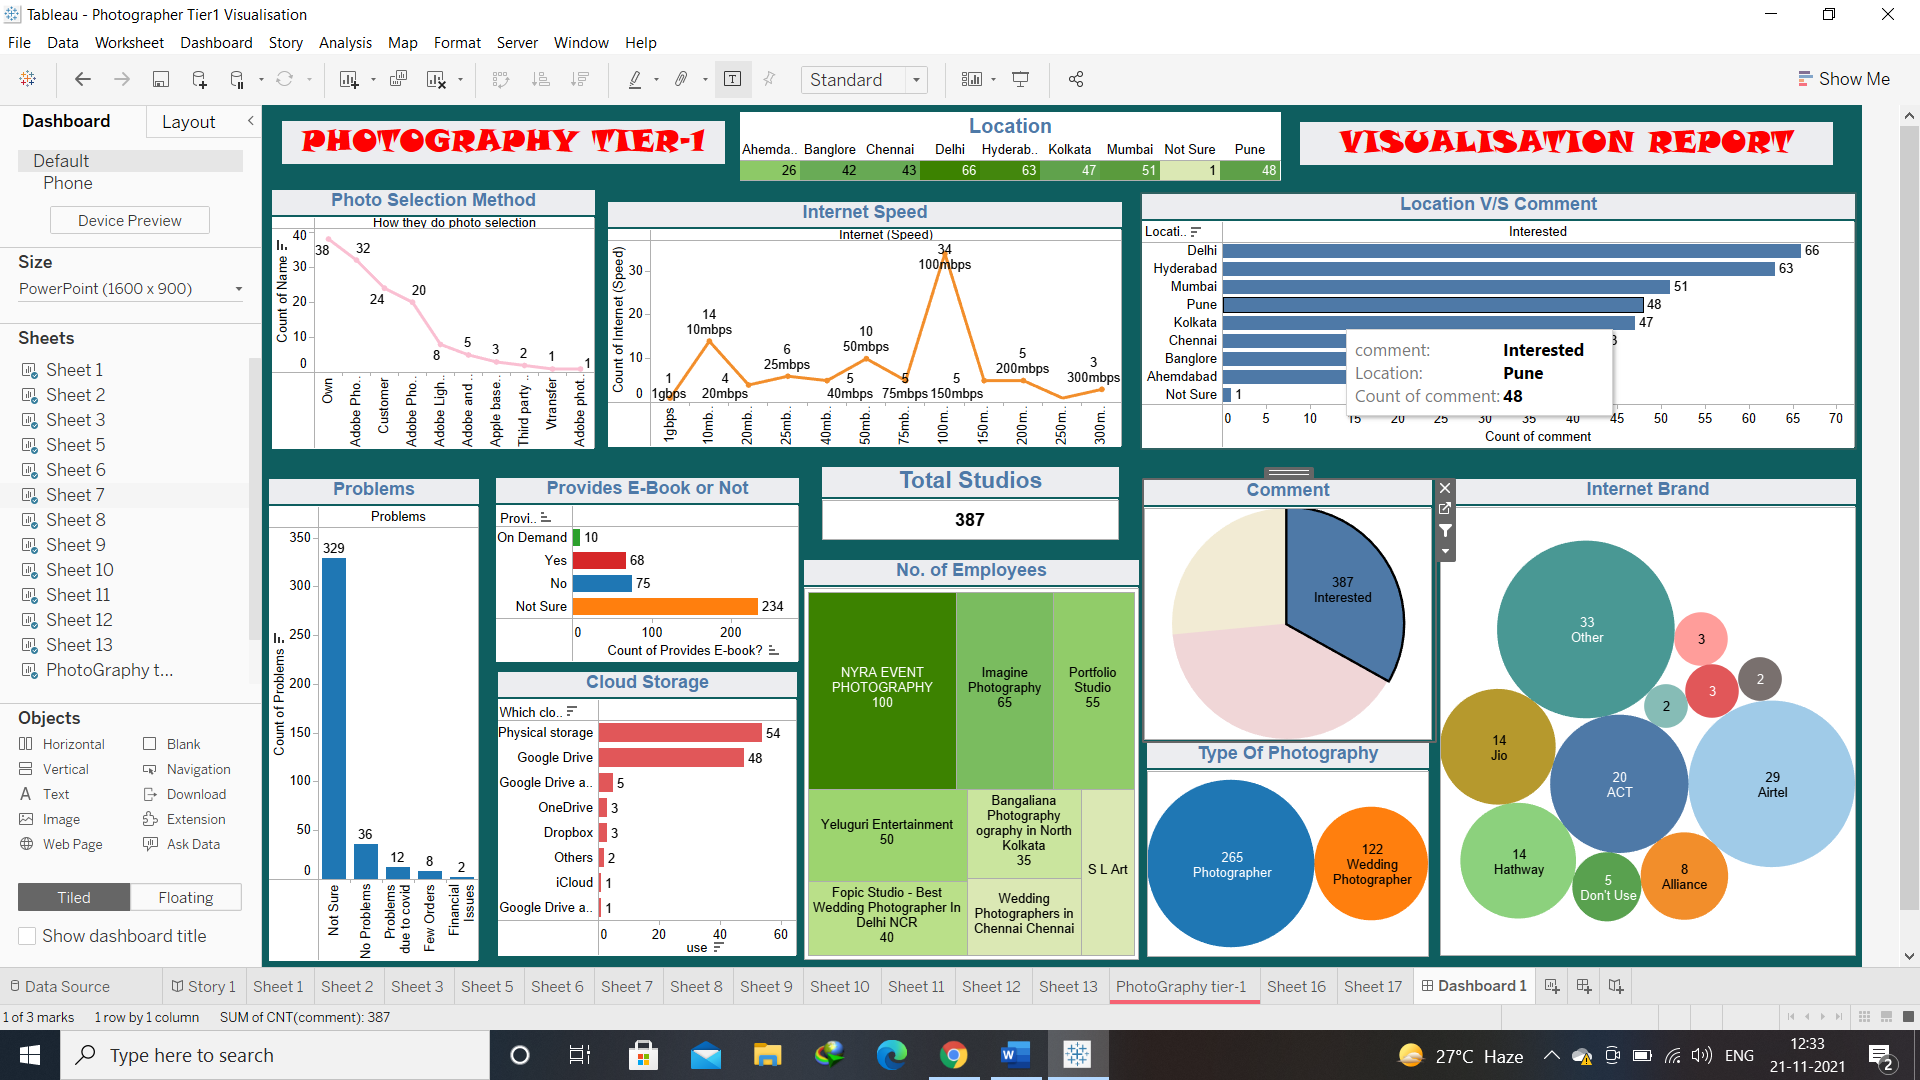

The dashboard page shown, as its layout file describes it:
{"tool":"tableau","page":{"name":"Dashboard 1","canvas":[1600,900],"ordinal":0},"visuals":[{"type":"worksheet","title":"Sheet 5","mark":"Square","cols":["Location"],"box":[478,7,545,72]},{"type":"worksheet","title":"PhotoGraphy tier-1","mark":"Automatic","box":[20,16,443,44]},{"type":"worksheet","title":"Sheet 16","mark":"Automatic","box":[1038,17,533,43]},{"type":"worksheet","title":"Sheet 13","mark":"Line","rows":["Name"],"cols":["How they do photo selection"],"box":[10,85,325,260]},{"type":"worksheet","title":"Sheet 2","mark":"Automatic","rows":["Location"],"cols":["comment","comment"],"box":[880,89,713,254]},{"type":"worksheet","title":"Sheet 12","mark":"Line","rows":["Internet (Speed)"],"cols":["Internet (Speed)"],"box":[346,97,514,245]},{"type":"worksheet","title":"Sheet 1","mark":"Automatic","box":[560,362,303,75]},{"type":"worksheet","title":"Sheet 8","mark":"Automatic","rows":["Provides E-book?"],"cols":["Provides E-book?"],"box":[234,373,303,187]},{"type":"worksheet","title":"Sheet 6","mark":"Automatic","rows":["Problems"],"cols":["Problems"],"box":[7,374,218,482]},{"type":"worksheet","title":"Sheet 3","mark":"Circle","box":[1178,374,420,477]},{"type":"worksheet","title":"Sheet 7","mark":"Pie","box":[882,375,291,261]},{"type":"worksheet","title":"Sheet 11","mark":"Automatic","box":[542,455,336,401]},{"type":"worksheet","title":"Sheet 9","mark":"Automatic","rows":["Which cloud storage they use"],"cols":["Which cloud storage they use"],"box":[236,567,302,288]},{"type":"worksheet","title":"Sheet 10","mark":"Circle","box":[885,638,284,216]}]}

Visuals, with their boxes on the page's 1600x900 design canvas (x1, y1, x2, y2). These are canvas units, not pixel positions in the 1920x1080 screenshot, which may show the page scaled, cropped or inside an application window:
"Sheet 5" worksheet (Square marks): [x1=478, y1=7, x2=1023, y2=79]
"PhotoGraphy tier-1" worksheet: [x1=20, y1=16, x2=463, y2=60]
"Sheet 16" worksheet: [x1=1038, y1=17, x2=1571, y2=60]
"Sheet 13" worksheet (Line marks): [x1=10, y1=85, x2=335, y2=345]
"Sheet 2" worksheet: [x1=880, y1=89, x2=1593, y2=343]
"Sheet 12" worksheet (Line marks): [x1=346, y1=97, x2=860, y2=342]
"Sheet 1" worksheet: [x1=560, y1=362, x2=863, y2=437]
"Sheet 8" worksheet: [x1=234, y1=373, x2=537, y2=560]
"Sheet 6" worksheet: [x1=7, y1=374, x2=225, y2=856]
"Sheet 3" worksheet (Circle marks): [x1=1178, y1=374, x2=1598, y2=851]
"Sheet 7" worksheet (Pie marks): [x1=882, y1=375, x2=1173, y2=636]
"Sheet 11" worksheet: [x1=542, y1=455, x2=878, y2=856]
"Sheet 9" worksheet: [x1=236, y1=567, x2=538, y2=855]
"Sheet 10" worksheet (Circle marks): [x1=885, y1=638, x2=1169, y2=854]
